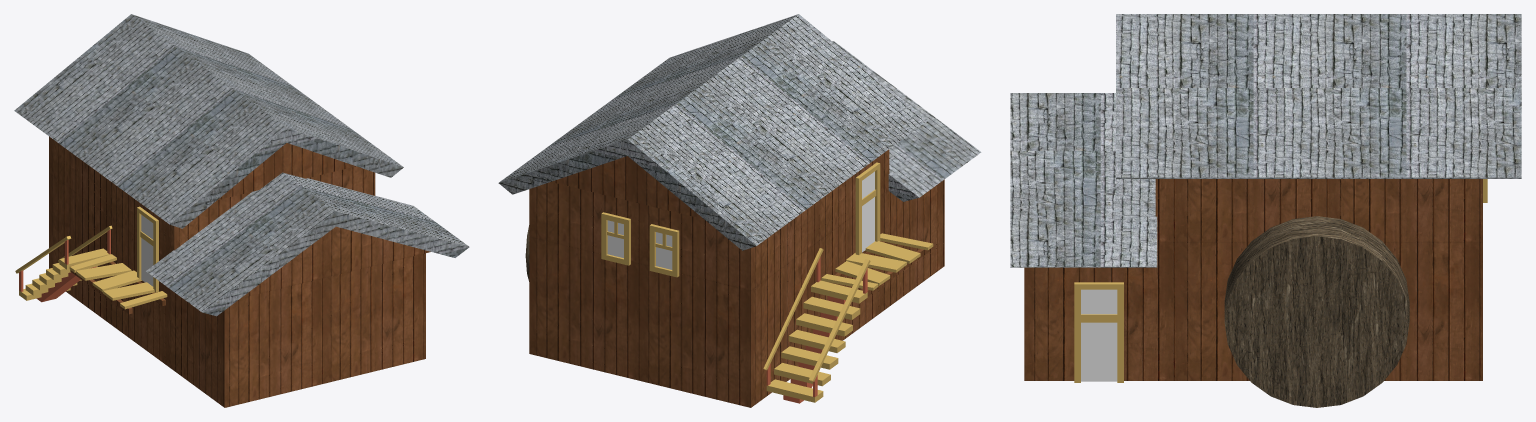
File: Mill.glb
The picture shows the model from 3 angles, left to right: view 1: azimuth 30°, elevation 25°; view 2: azimuth 150°, elevation 25°; view 3: azimuth 270°, elevation 25°; orthographic projection. The views are drawn at different scales.
Visible parts, largest first — view 1: mergedBlocks(Clone); view 2: mergedBlocks(Clone); view 3: mergedBlocks(Clone).
Boxes of the visible parts, x1,y1,x2,y2 form: mergedBlocks(Clone): (14, 14, 469, 407); mergedBlocks(Clone): (498, 14, 981, 407); mergedBlocks(Clone): (1010, 14, 1521, 407).
Size of the model in its own units: 2.81 by 2.22 by 3.34.
Materials: 6 (3 with a texture image).
